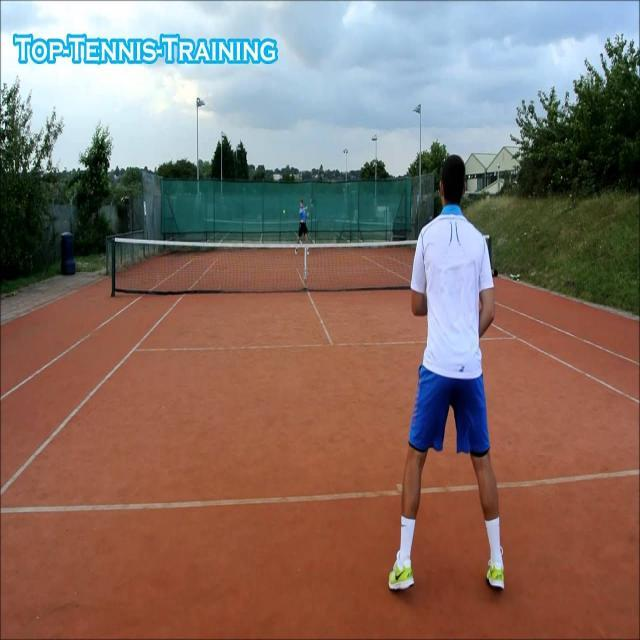court: (0, 260, 638, 574)
net: (105, 233, 508, 294)
player: (376, 144, 520, 603)
